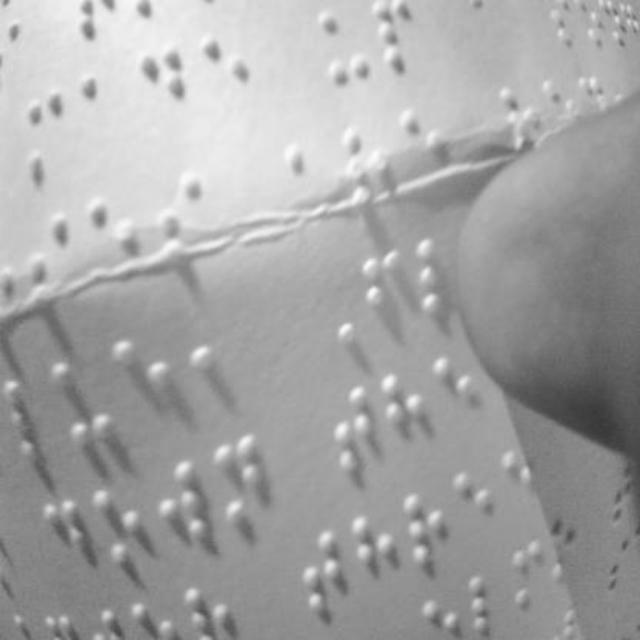braiile: (48, 350, 114, 446), (156, 455, 214, 561), (115, 333, 173, 437), (214, 430, 266, 538), (300, 520, 354, 624), (34, 492, 90, 592), (138, 42, 190, 144), (92, 482, 146, 580), (350, 508, 402, 608), (204, 28, 256, 128), (328, 384, 384, 476), (420, 229, 472, 327), (81, 69, 130, 167), (382, 368, 432, 464), (318, 11, 372, 98), (192, 318, 244, 407), (404, 488, 456, 576), (24, 92, 72, 186), (364, 248, 412, 342)
